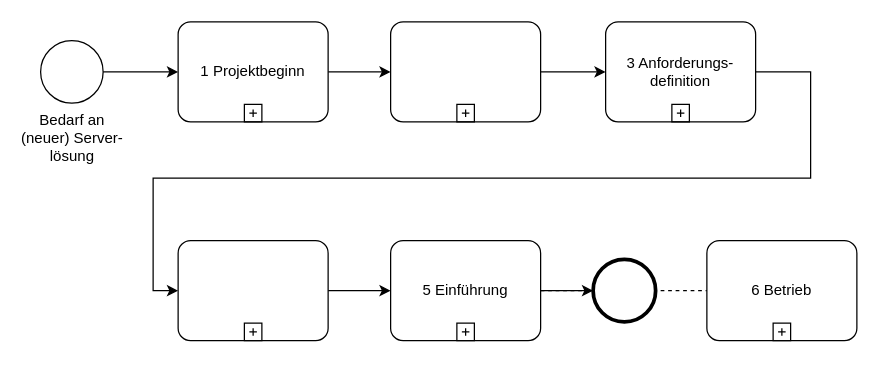
The diagram is 879 pixels wide and 389 high, and some of its shapes have lost their labels. The centre of each missing label's shape, as x and y in pixels:
2 Bestandsanalyse und Strategieentwicklung: (465,71)
4 Beschaffung: (252,290)
Einführungs- projekt abgeschlossen: (624,290)
